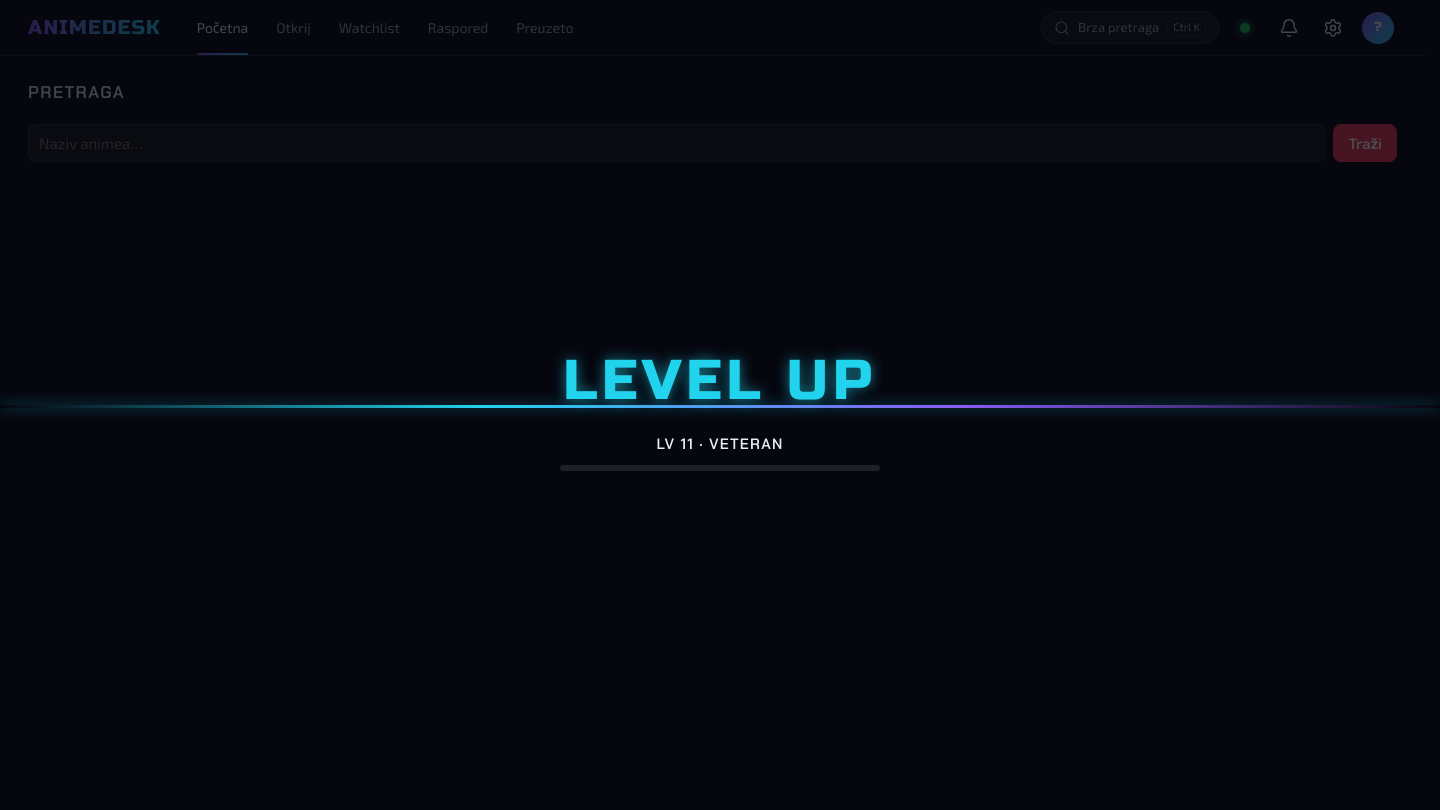
App celebrations › shows the level-up overlay with sound and closes it on click
What coordinates should you click on to do the following:
click the dialog "LEVEL UP"
I would click on:
 (720, 761)
Its box is [0,0,1439,809].
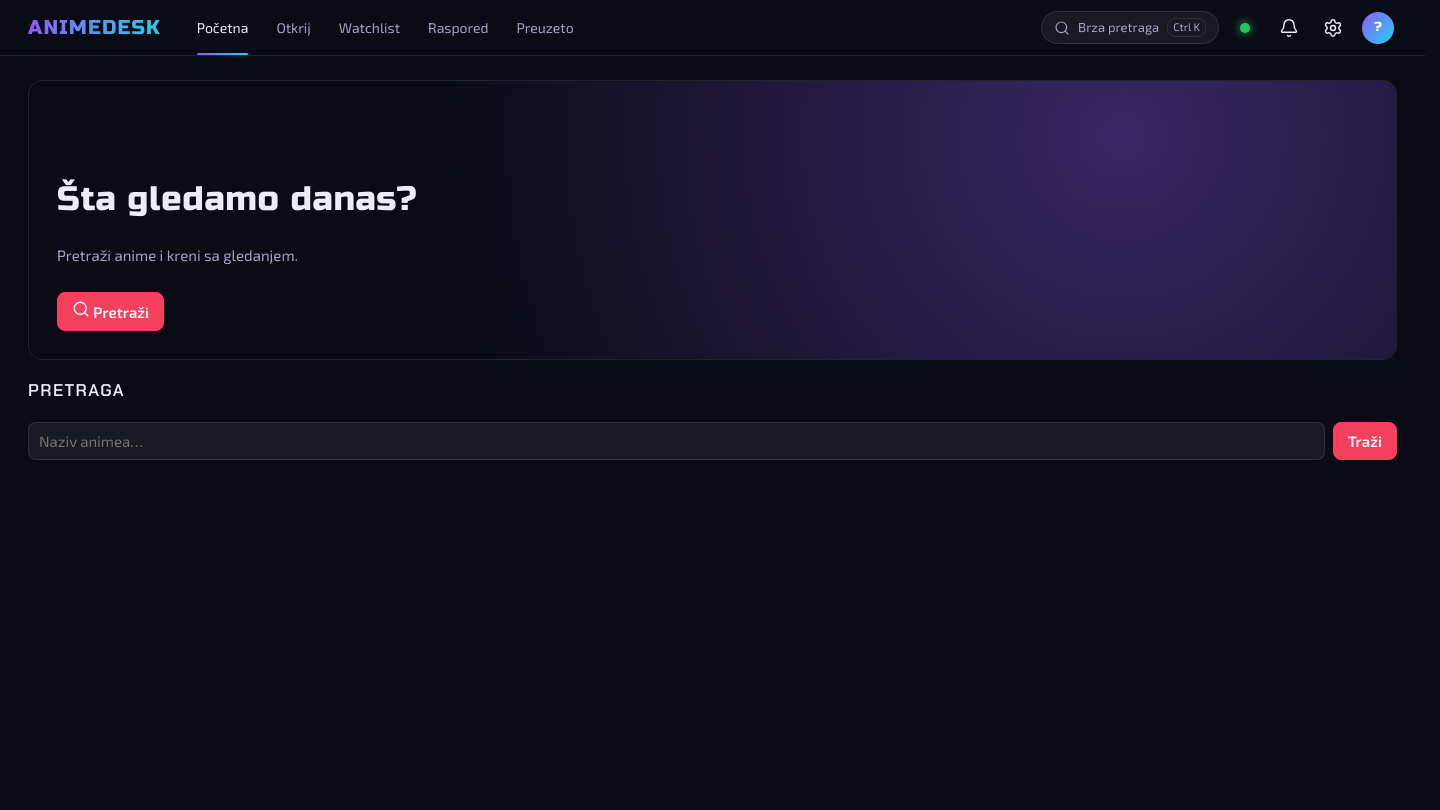
expect the text "LEVEL UP" is gone: met
